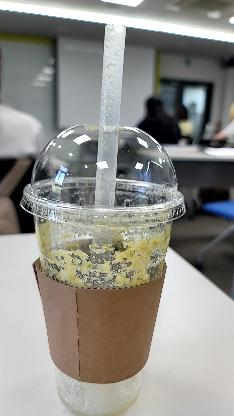Plastic Cup: (21, 125, 189, 416), (21, 124, 185, 228)
